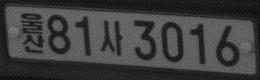0: (160, 20, 184, 64)
1: (72, 14, 93, 57), (188, 21, 207, 65)
3: (130, 18, 156, 61)
6: (214, 23, 240, 67)
8: (46, 13, 71, 55)
사: (99, 19, 124, 57)
울산_V: (20, 11, 45, 54)
